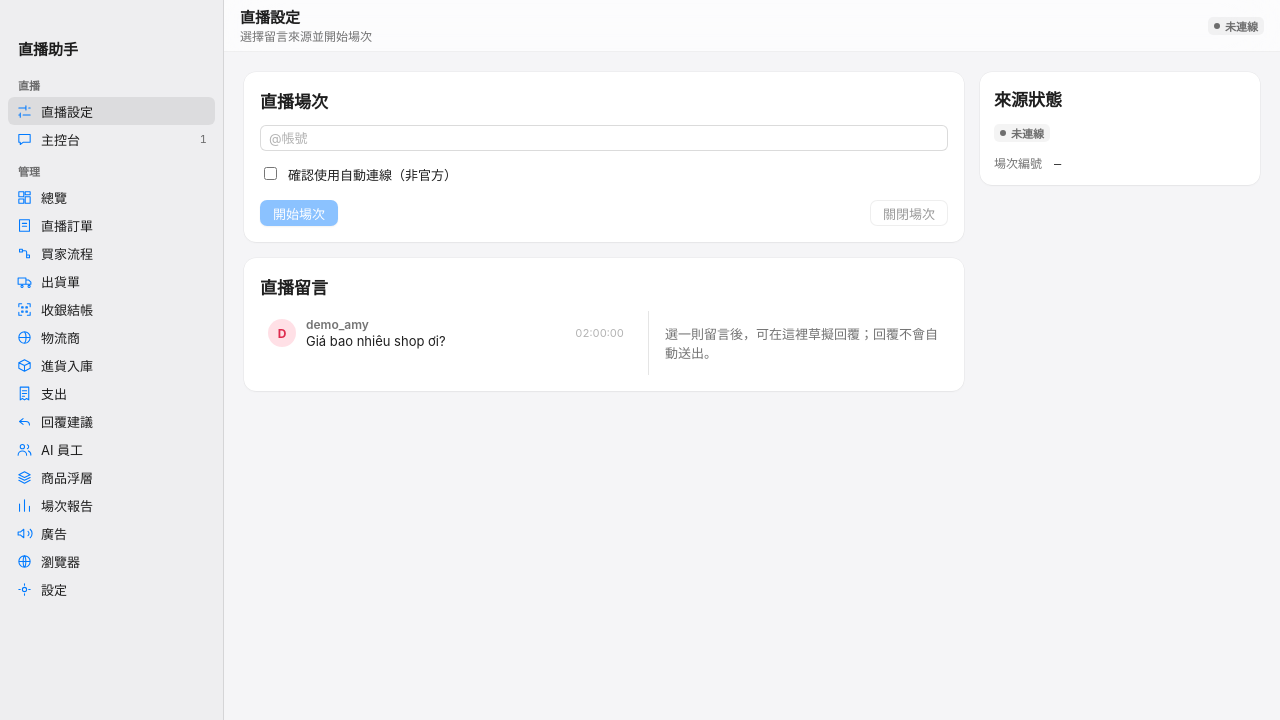
Live Assistant UI › Setup tab's embedded live viewer shows incoming comments and opens a reply draft (never a send)
Click the text "Giá bao nhiêu shop ơi?".
click(376, 341)  # box [306,333,446,349]
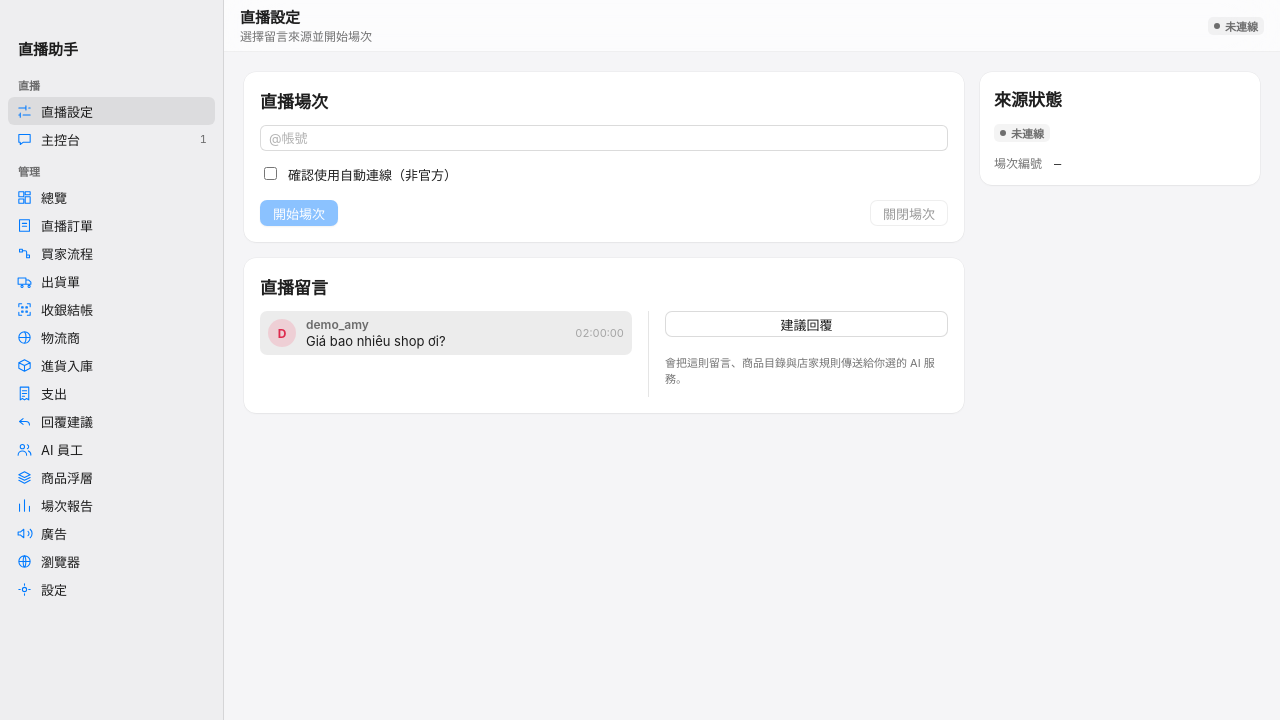
Expected: the button "建議回覆" is shown, [665,311,948,337]
Expected: the text "選一則留言後，可在這裡草擬回覆；回覆不會自動送出。" is gone
